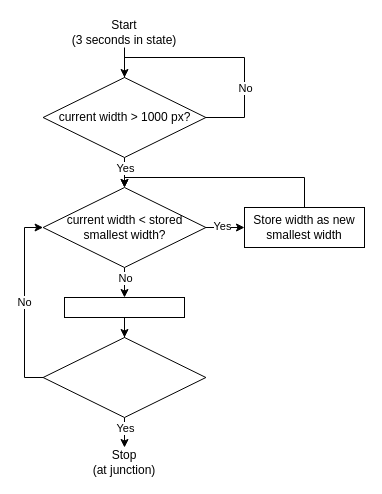
Image size: 382x494. Some labels were removed from this diagram. The centre of each missing label's shape, as x and y in pixels:
counter > 17 frames?: the point at 124,377
Increment counter: the point at 124,307
